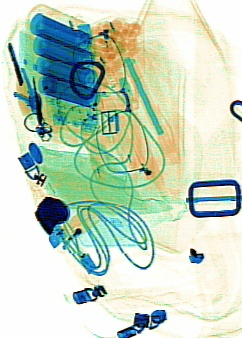lighter: (44, 201, 100, 255)
powerbank: (22, 6, 105, 136)
